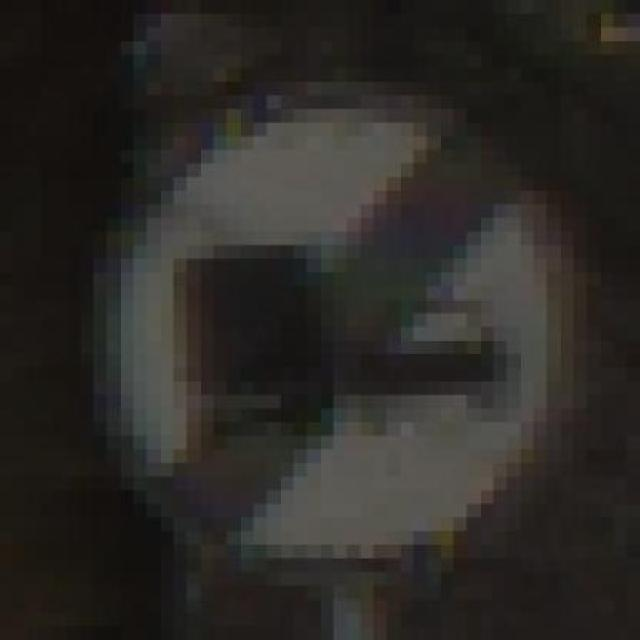Overtaking by trucks is prohibited: (53, 41, 613, 599)
